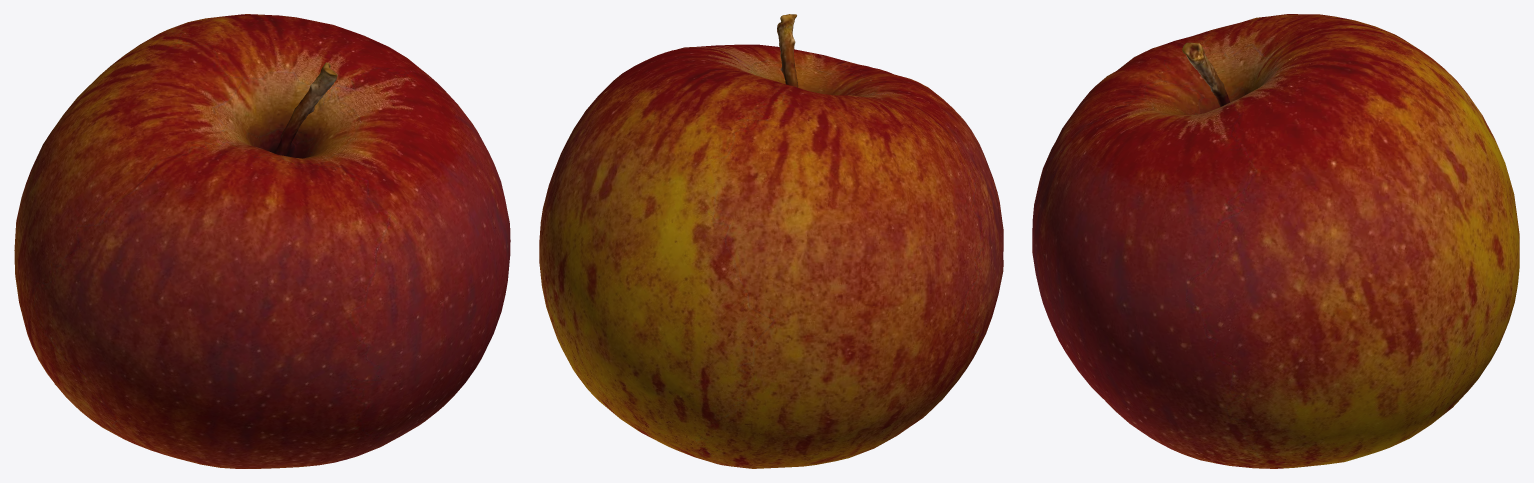
The model's file is food_apple_01.glb.
3 views of the same model, side by side, from view 1: azimuth 30°, elevation 25°; view 2: azimuth 150°, elevation 25°; view 3: azimuth 270°, elevation 25° (orthographic). The views are drawn at different scales.
Parts seen in each view (by area): view 1: food_apple_01; view 2: food_apple_01; view 3: food_apple_01.
Boxes of the visible parts, x1=… form: food_apple_01: x1=14, y1=14, x2=510, y2=468; food_apple_01: x1=539, y1=14, x2=1003, y2=468; food_apple_01: x1=1032, y1=14, x2=1519, y2=468.
Size of the model in its own units: 0.0976 by 0.0854 by 0.0959.
Materials: 1 (1 with a texture image).
